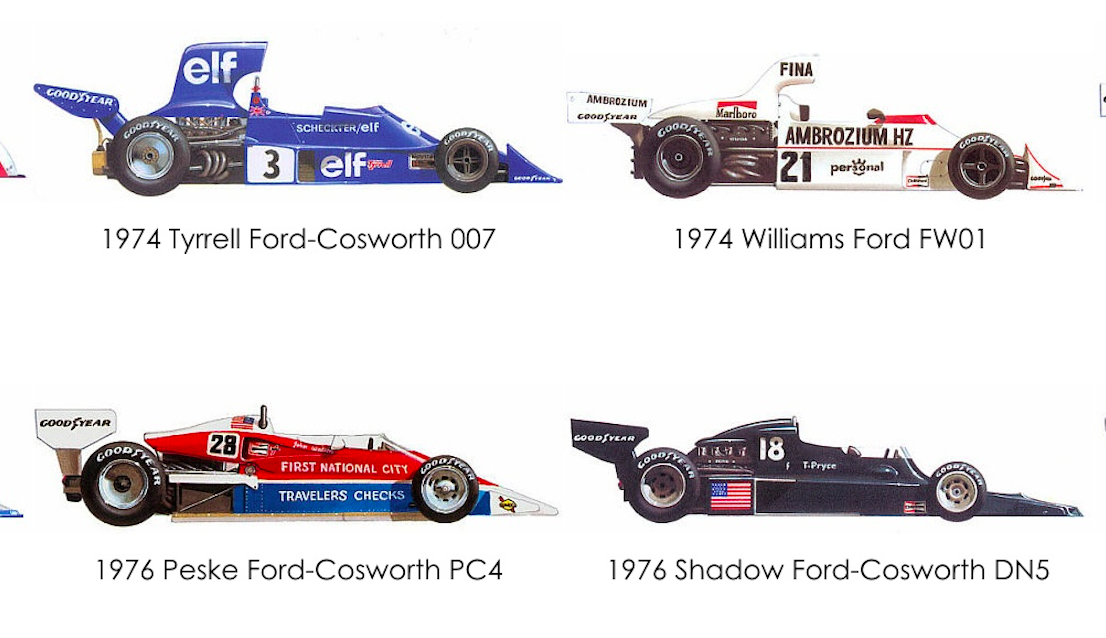f1_car: (24, 31, 582, 222), (559, 33, 1095, 224), (23, 389, 575, 545), (560, 401, 1099, 540)
